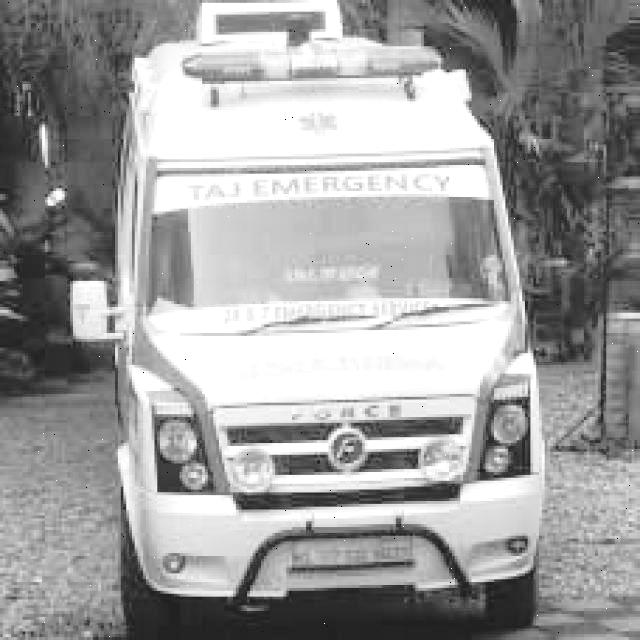LCV: (67, 48, 547, 599)
